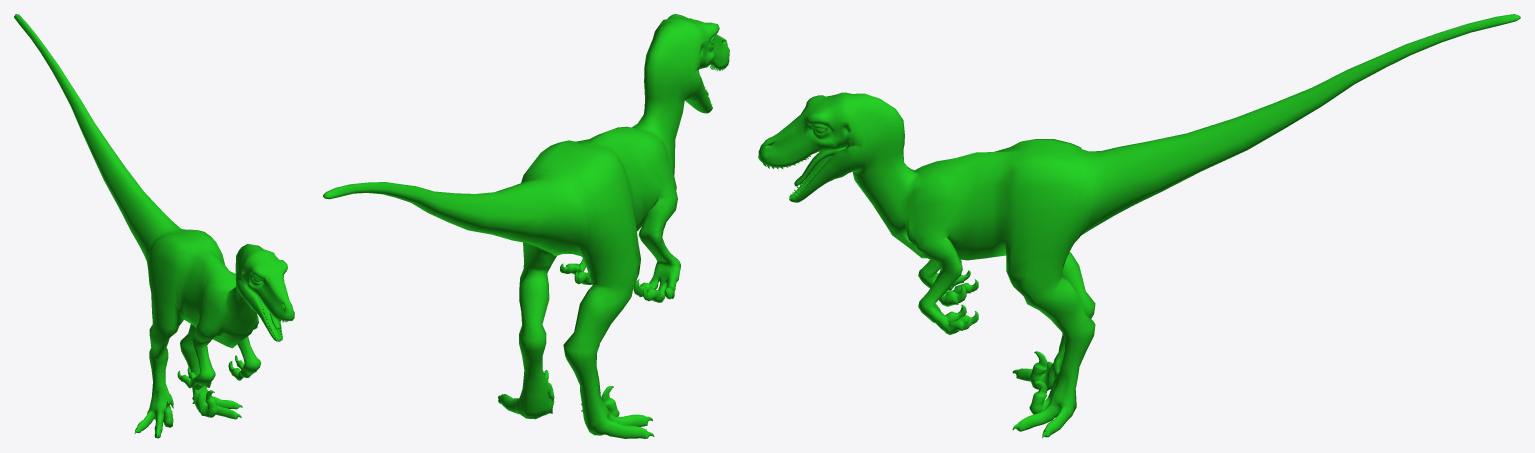
The model's file is raptor_01.obj.
3 renders of one model, left to right at view 1: azimuth 30°, elevation 25°; view 2: azimuth 150°, elevation 25°; view 3: azimuth 270°, elevation 25°, orthographic. The views are drawn at different scales.
Parts seen in each view (by area): view 1: Cube.012_Cube.001; view 2: Cube.012_Cube.001; view 3: Cube.012_Cube.001.
Boxes of the visible parts, left/top/right/bottom form: Cube.012_Cube.001: left=14, top=14, right=294, bottom=438; Cube.012_Cube.001: left=323, top=14, right=729, bottom=438; Cube.012_Cube.001: left=758, top=14, right=1520, bottom=438.
Bounding box in the file's own units: 0.7326 × 1.83 × 3.25.
